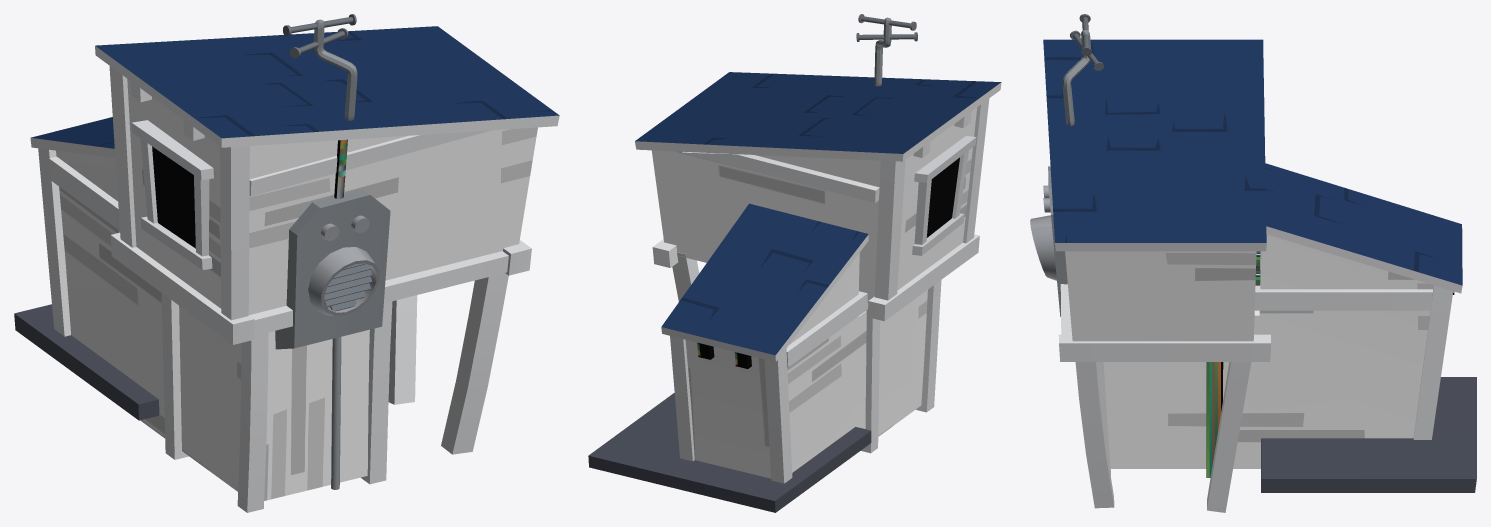
The model's file is SM_Watermill_Body.fbx.
3 renders of one model, left to right at view 1: azimuth 30°, elevation 25°; view 2: azimuth 150°, elevation 25°; view 3: azimuth 270°, elevation 25°, orthographic. The views are drawn at different scales.
Visible parts, largest first — view 1: SM_Watermill_Body; view 2: SM_Watermill_Body; view 3: SM_Watermill_Body.
Part boxes in pixels (x1,y1,x2,y2): SM_Watermill_Body: [14, 14, 559, 512]; SM_Watermill_Body: [588, 14, 1001, 512]; SM_Watermill_Body: [1030, 14, 1476, 512].
Bounding box in the file's own units: 570 × 764 × 738.
